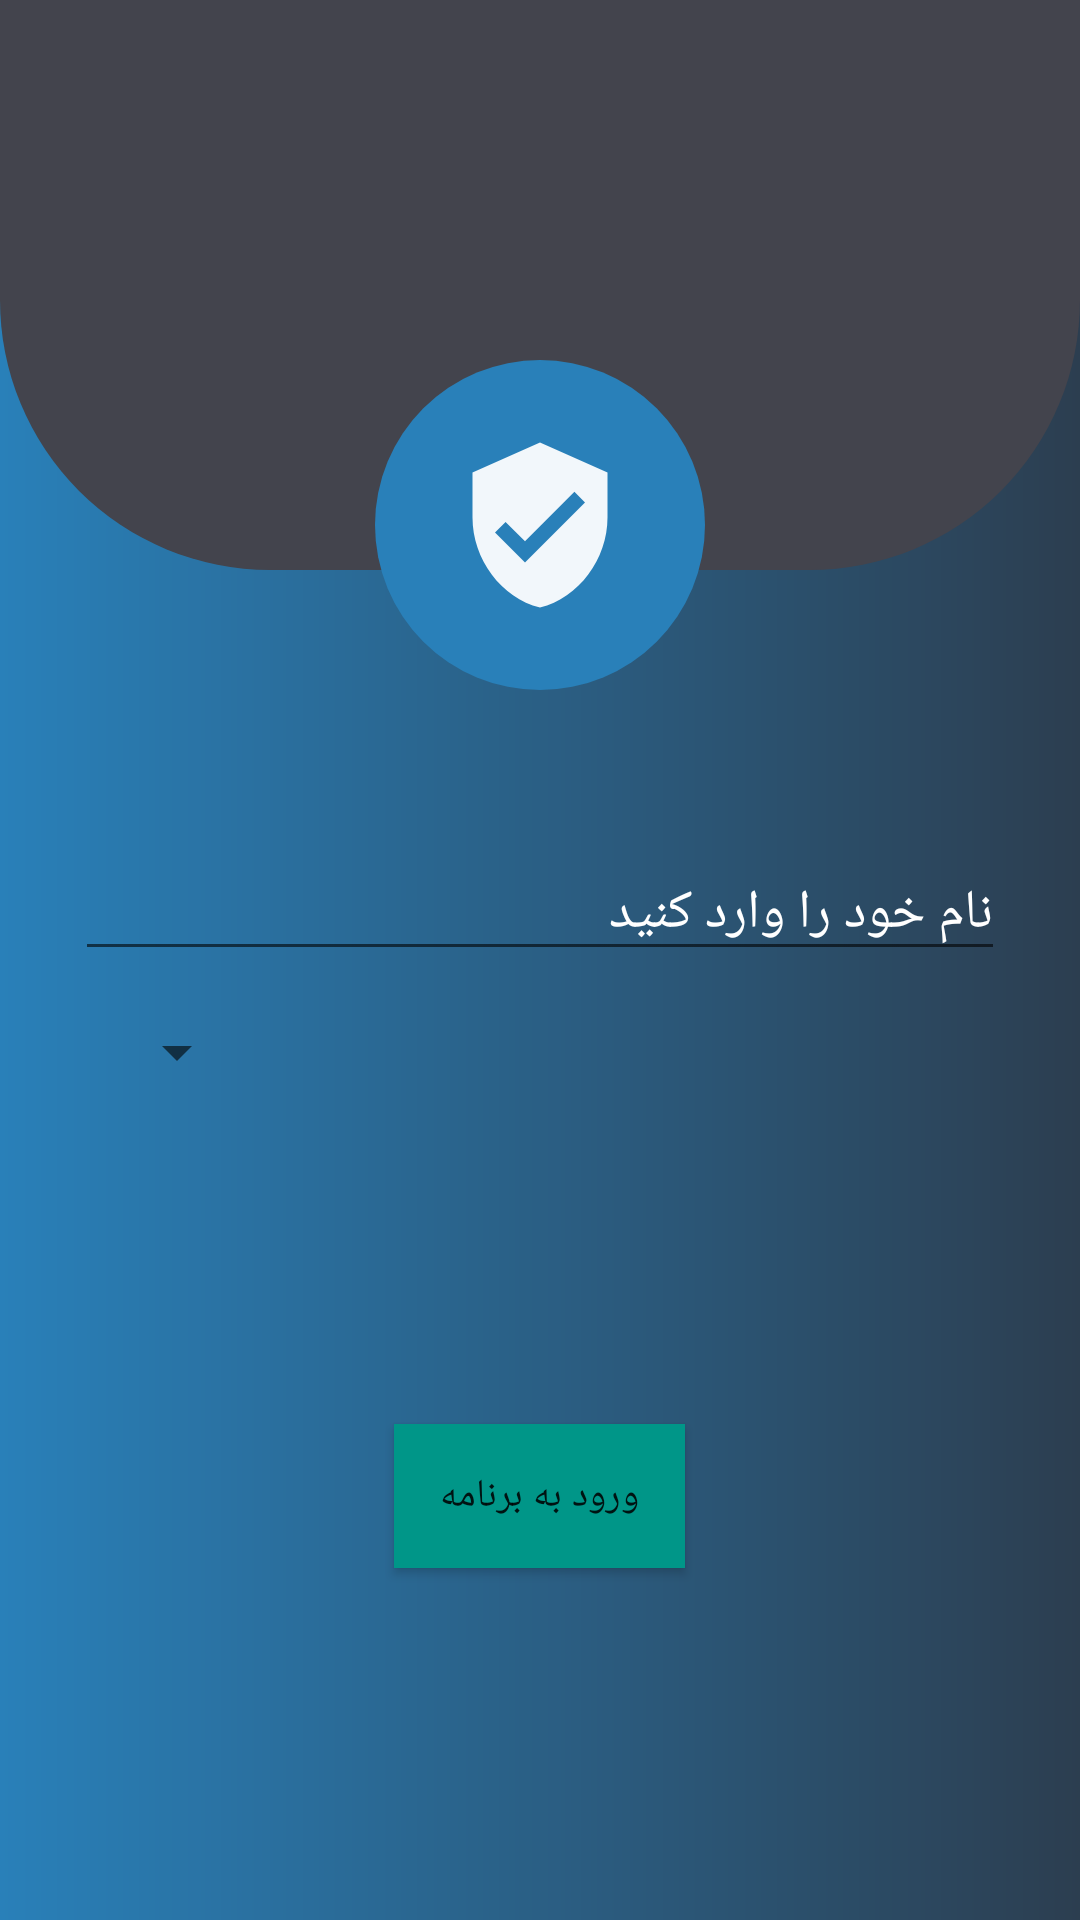

Where to tap for icons on this 1080x1920 app screen, as (x=x, y=y):
verified: (x=540, y=525)
